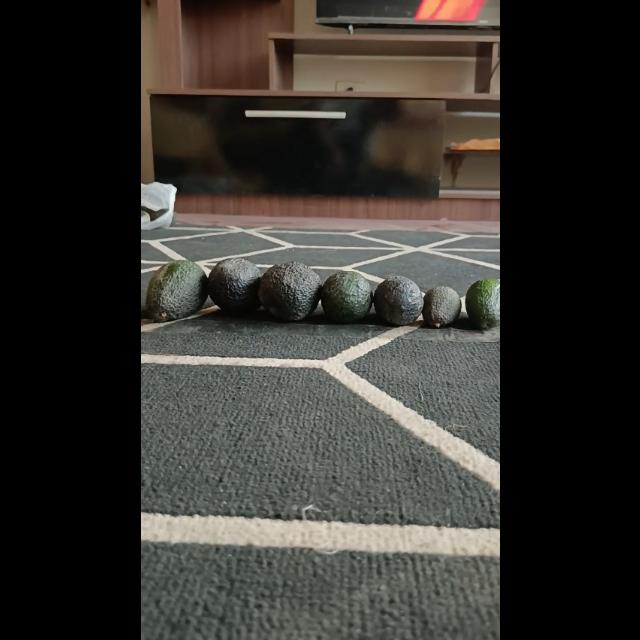Primera: (143, 258, 207, 322), (258, 261, 322, 321), (205, 256, 262, 314)
Segunda: (319, 270, 373, 324), (372, 274, 424, 326), (464, 276, 498, 330)
Tercera: (421, 286, 461, 328)
